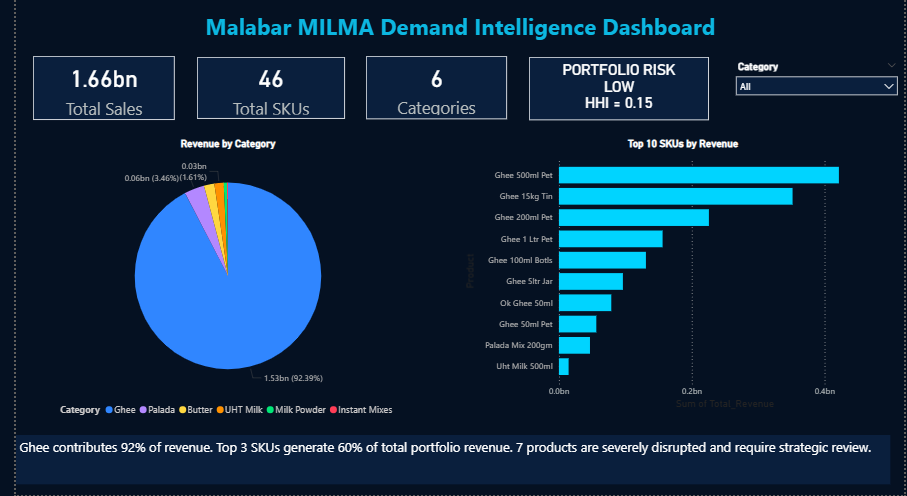

Layout of this report page (visuals, bound fields, positions):
{"tool":"powerbi","page":{"name":"Portfolio Overview","canvas":[1280,720],"ordinal":0},"visuals":[{"type":"textbox","box":[0,17.3,1280.2,60.5],"z":0},{"type":"card","fields":{"Values":["Sum(master_dairy_dataset.Sales_Value)"]},"box":[24.5,87.8,204.5,92.2],"z":1000},{"type":"card","fields":{"Values":["Count(master_dairy_dataset.Product)"]},"box":[259.9,88.6,213.1,89.3],"z":2000},{"type":"card","fields":{"Values":["Count(master_dairy_dataset.Category)"]},"box":[504,87.8,203,90.7],"z":3000},{"type":"textbox","box":[738.7,89.3,259.2,90.7],"z":4000},{"type":"pieChart","title":"Revenue by Category","fields":{"Category":["master_dairy_dataset.Category"],"Y":["Sum(master_dairy_dataset.Sales_Value)"]},"box":[0,205.9,610.6,410.4],"z":5000},{"type":"clusteredBarChart","title":"Top 10 SKUs by Revenue","fields":{"Category":["bi3_concentration_risk.Product"],"Y":["Sum(bi3_concentration_risk.Total_Revenue)"]},"box":[640.8,205.9,639.4,396],"z":6000},{"type":"slicer","fields":{"Values":["master_dairy_dataset.Category"]},"box":[1026.6,89.3,253.4,89.3],"z":7000},{"type":"textbox","box":[0,633.6,1258.6,70.6],"z":8000}]}

Visuals, with their boxes in screenshot pixels (x1, y1, x2, y2), scaled from the page's 1280x720 canvas onto the 907x496 screenshot:
textbox: {"x1": 0, "y1": 12, "x2": 906, "y2": 54}
card - Sum(master_dairy_dataset.Sales_Value): {"x1": 17, "y1": 60, "x2": 162, "y2": 124}
card - Count(master_dairy_dataset.Product): {"x1": 184, "y1": 61, "x2": 335, "y2": 123}
card - Count(master_dairy_dataset.Category): {"x1": 357, "y1": 60, "x2": 501, "y2": 123}
textbox: {"x1": 523, "y1": 62, "x2": 707, "y2": 124}
"Revenue by Category" pieChart: {"x1": 0, "y1": 142, "x2": 433, "y2": 425}
"Top 10 SKUs by Revenue" clusteredBarChart: {"x1": 454, "y1": 142, "x2": 906, "y2": 415}
slicer - master_dairy_dataset.Category: {"x1": 727, "y1": 62, "x2": 906, "y2": 123}
textbox: {"x1": 0, "y1": 436, "x2": 892, "y2": 485}
